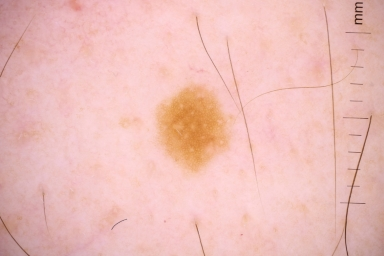nevus: (161, 89, 231, 172)
